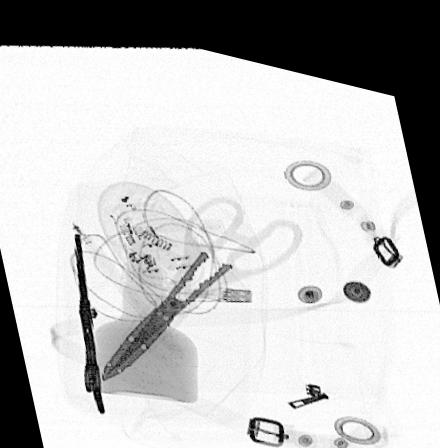Scissors: (98, 183, 304, 378), (70, 225, 108, 410)
